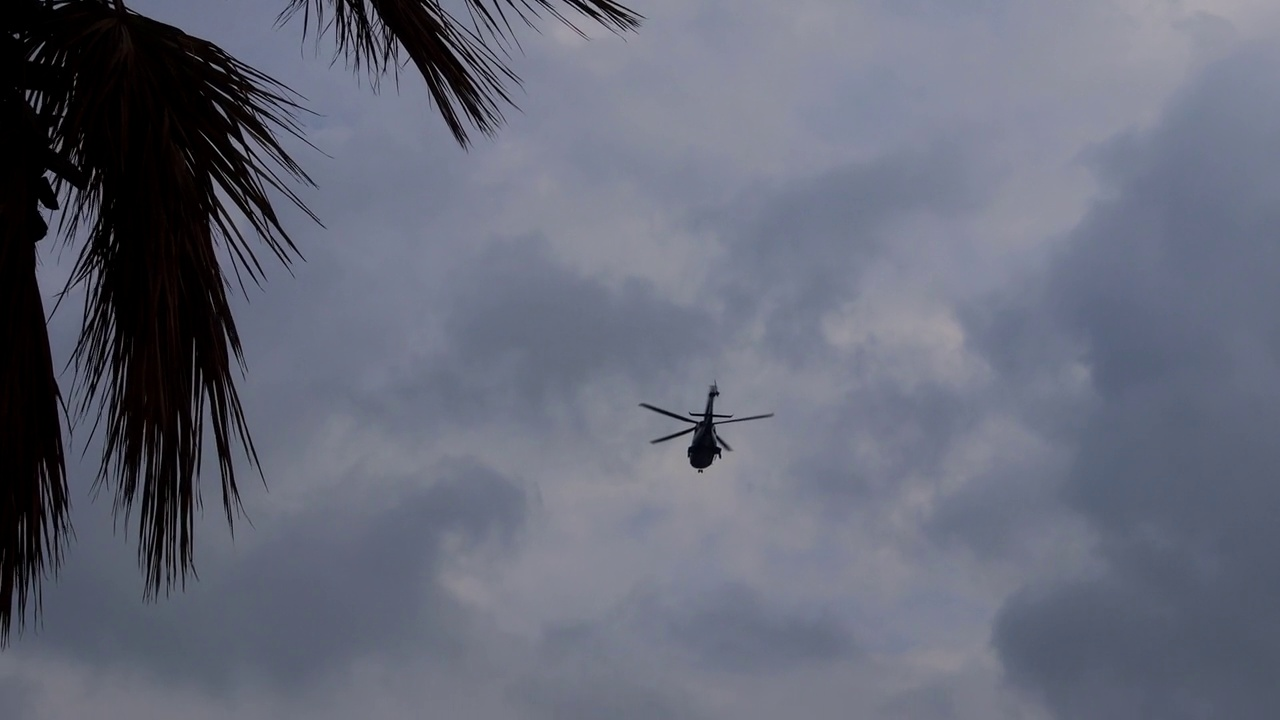heli: (638, 383, 773, 474)
